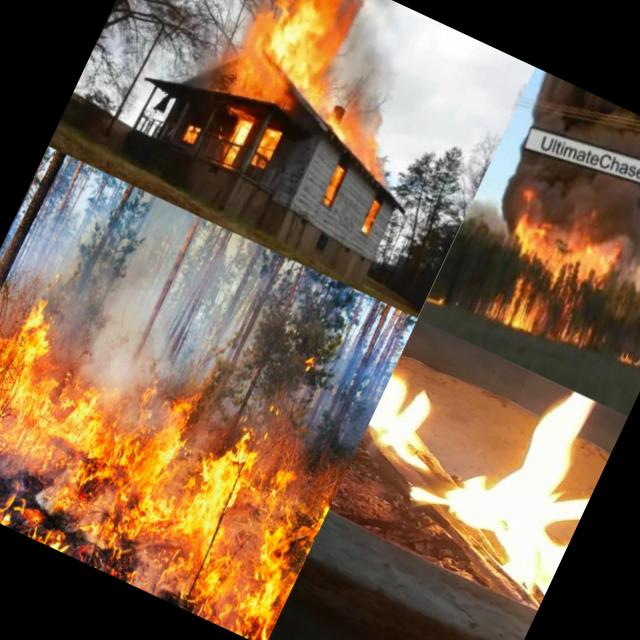fire: (0, 274, 357, 640), (327, 318, 628, 612), (219, 0, 371, 132), (499, 198, 620, 297), (311, 106, 403, 184), (471, 264, 552, 336), (208, 108, 255, 170), (547, 307, 594, 352), (316, 166, 348, 212), (357, 197, 385, 239), (611, 341, 640, 372), (179, 115, 205, 146)
smoke: (323, 0, 431, 125), (603, 191, 640, 306)
